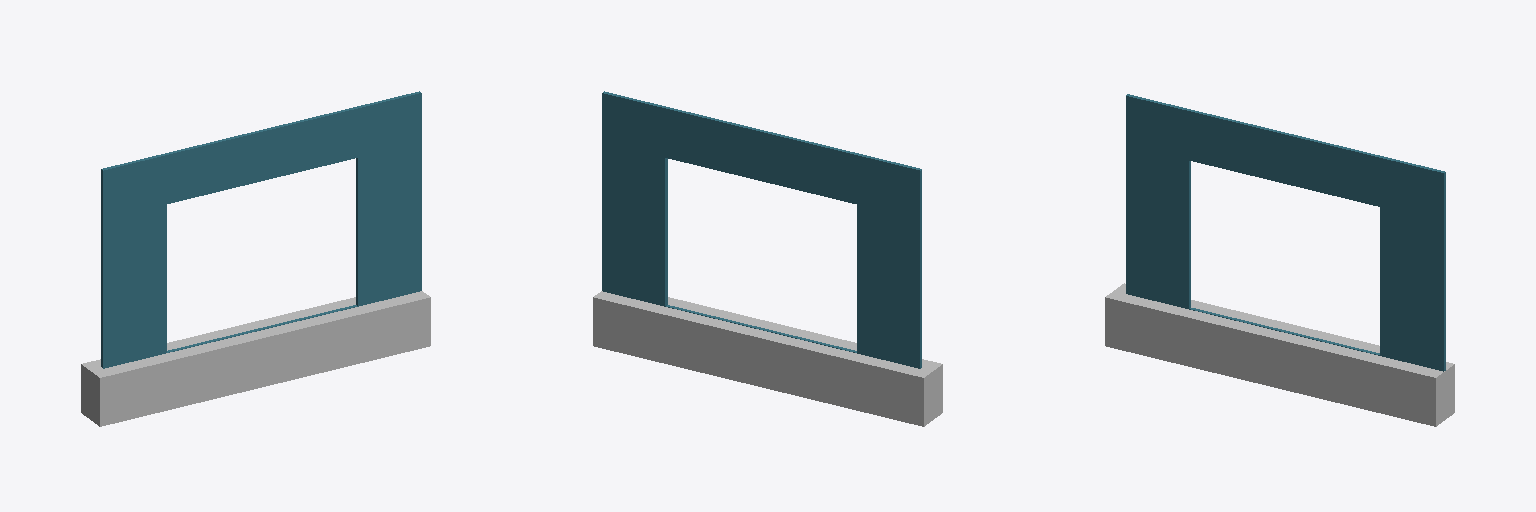
Rendered from dindingdepankiri.obj.
3 views of the same model, side by side, from view 1: azimuth 30°, elevation 25°; view 2: azimuth 150°, elevation 25°; view 3: azimuth 330°, elevation 25° (orthographic).
Visible parts, largest first — view 1: Cube.002_Cube.081, Cube.081_Cube.082_Cube.081_Cube.002, Cube.085_Cube.086_Cube.085_Cube.002, Cube.088_Cube.089_Cube.088_Cube.002, Cube.008_Cube.080_Cube.008_Cube.002; view 2: Cube.002_Cube.081, Cube.088_Cube.089_Cube.088_Cube.002, Cube.085_Cube.086_Cube.085_Cube.002, Cube.081_Cube.082_Cube.081_Cube.002; view 3: Cube.002_Cube.081, Cube.081_Cube.082_Cube.081_Cube.002, Cube.088_Cube.089_Cube.088_Cube.002, Cube.085_Cube.086_Cube.085_Cube.002, Cube.008_Cube.080_Cube.008_Cube.002.
Part boxes in pixels (bbox=[...]): Cube.002_Cube.081: bbox=[81, 291, 430, 426]; Cube.081_Cube.082_Cube.081_Cube.002: bbox=[103, 91, 421, 219]; Cube.085_Cube.086_Cube.085_Cube.002: bbox=[101, 169, 166, 368]; Cube.088_Cube.089_Cube.088_Cube.002: bbox=[356, 94, 421, 305]; Cube.008_Cube.080_Cube.008_Cube.002: bbox=[104, 291, 419, 368]; Cube.002_Cube.081: bbox=[593, 291, 942, 426]; Cube.088_Cube.089_Cube.088_Cube.002: bbox=[602, 93, 667, 306]; Cube.085_Cube.086_Cube.085_Cube.002: bbox=[857, 156, 921, 368]; Cube.081_Cube.082_Cube.081_Cube.002: bbox=[603, 91, 920, 203]; Cube.002_Cube.081: bbox=[1105, 283, 1454, 426]; Cube.081_Cube.082_Cube.081_Cube.002: bbox=[1126, 94, 1444, 222]; Cube.088_Cube.089_Cube.088_Cube.002: bbox=[1380, 172, 1445, 370]; Cube.085_Cube.086_Cube.085_Cube.002: bbox=[1126, 94, 1190, 308]; Cube.008_Cube.080_Cube.008_Cube.002: bbox=[1128, 294, 1445, 371].
Size of the model in its own units: 28.03 by 20.02 by 2.81.